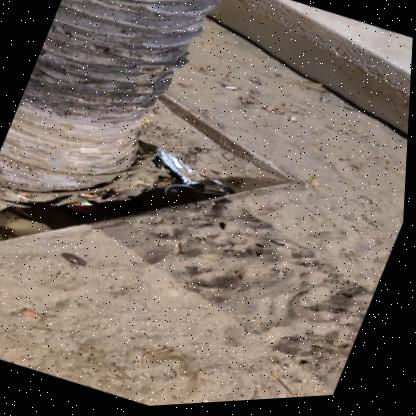Plastic: (153, 150, 231, 198), (67, 191, 122, 219), (166, 186, 208, 206)
Waste: (223, 88, 236, 92), (314, 184, 322, 190), (81, 194, 93, 197), (322, 103, 328, 106)
